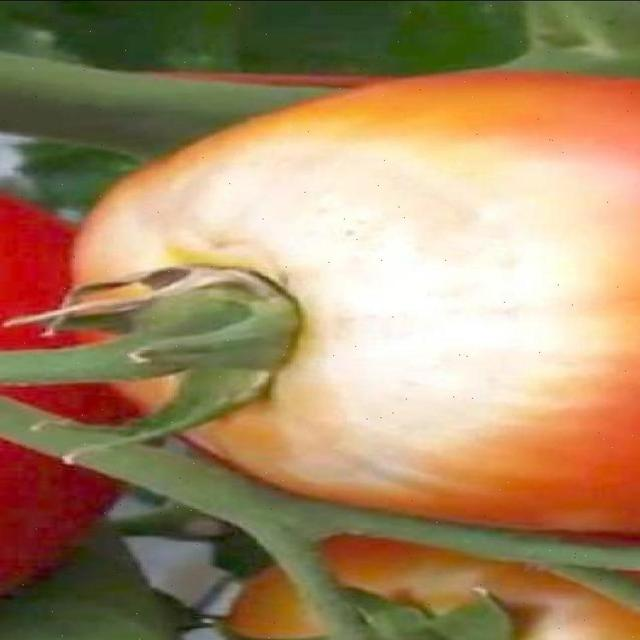Sunscald Fruit: (64, 89, 418, 327)
